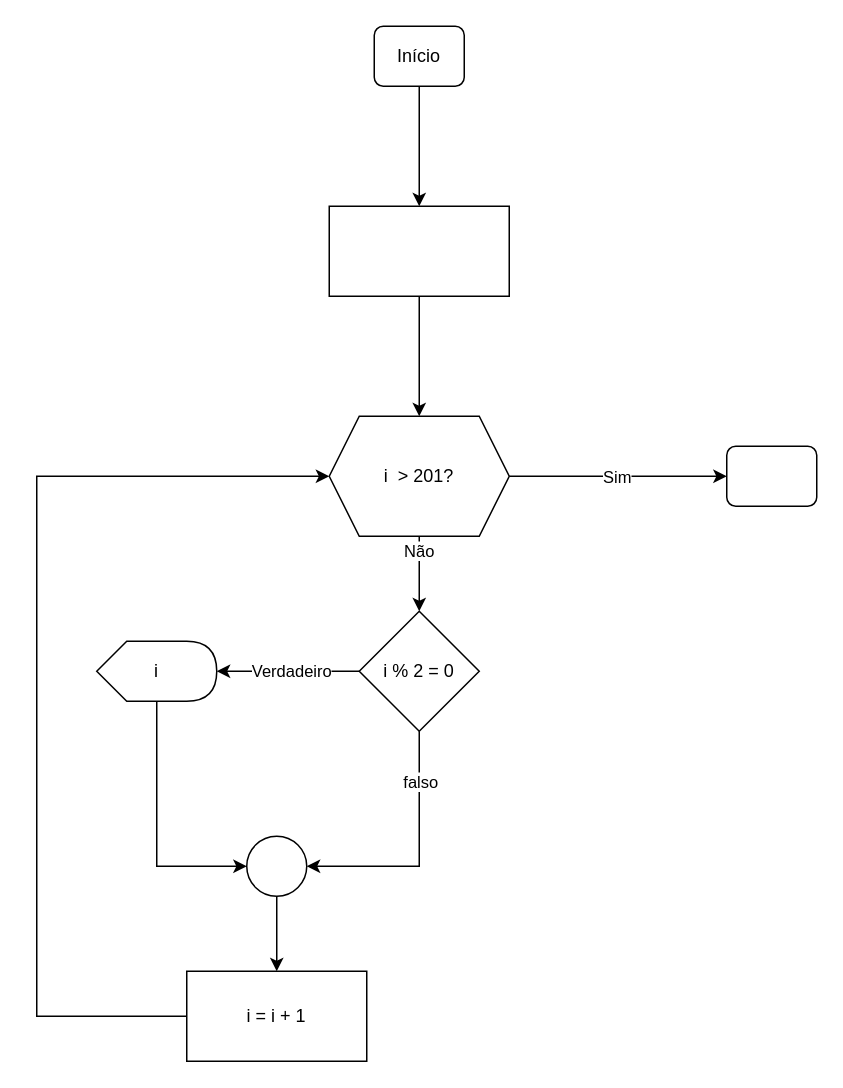
Some shapes in this 843 by 1088 pixel diagram are drawn without their labels. The shapes that lost their labels are listed below. From the top down, each one's centre as x and y in pixels, then its label:
At point 418,250: "i = 25".
At point 771,475: "Fim".
